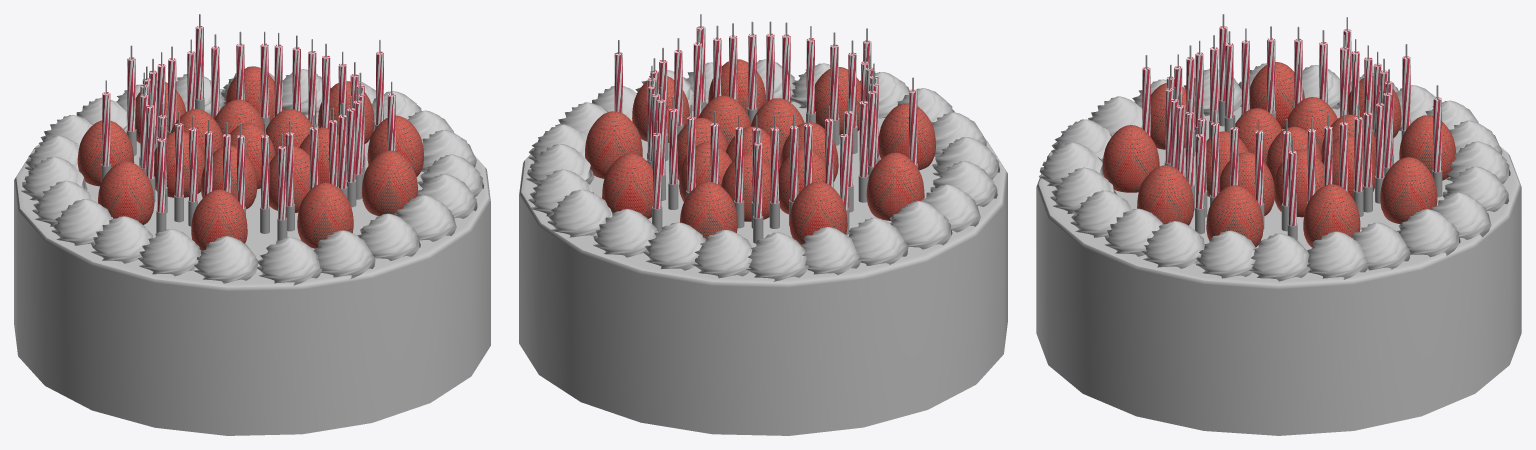
Rendered from Cake_white.fbx.
The picture shows the model from 3 angles, left to right: view 1: azimuth 30°, elevation 25°; view 2: azimuth 150°, elevation 25°; view 3: azimuth 270°, elevation 25°; orthographic projection. The views are drawn at different scales.
Visible parts, largest first — view 1: Candle:pCylinder107, Candle:pCylinder82, Candle:pCylinder88, Candle:pCylinder81, Candle:pCylinder80, Candle:pCylinder78, Candle:pCylinder77, Candle:pCylinder79, Candle:pCylinder71, Candle:pCylinder64, Candle:pCylinder95, Candle:pCylinder83 (+30 smaller); view 2: Candle:pCylinder107, Candle:pCylinder79, Candle:pCylinder88, Candle:pCylinder108, Candle:pCylinder78, Candle:pCylinder82, Candle:pCylinder66, Candle:pCylinder93, Candle:pCylinder105, Candle:pCylinder98, Candle:pCylinder80, Candle:pCylinder74 (+25 smaller); view 3: Candle:pCylinder107, Candle:pCylinder108, Candle:pCylinder80, Candle:pCylinder81, Candle:pCylinder82, Candle:pCylinder78, Candle:pCylinder77, Candle:pCylinder75, Candle:pCylinder86, Candle:pCylinder85, Candle:pCylinder102, Candle:pCylinder66 (+29 smaller).
Boxes of the visible parts, x1,y1,x2,y2 form: Candle:pCylinder107: [14, 66, 490, 435]; Candle:pCylinder82: [154, 131, 204, 197]; Candle:pCylinder88: [269, 146, 320, 212]; Candle:pCylinder81: [200, 146, 257, 209]; Candle:pCylinder80: [266, 109, 313, 154]; Candle:pCylinder78: [214, 99, 264, 135]; Candle:pCylinder77: [222, 123, 275, 188]; Candle:pCylinder79: [170, 109, 222, 153]; Candle:pCylinder71: [174, 111, 183, 222]; Candle:pCylinder64: [260, 123, 269, 233]; Candle:pCylinder95: [347, 96, 356, 207]; Candle:pCylinder83: [156, 126, 166, 233]; Candle:pCylinder107: [519, 59, 1007, 435]; Candle:pCylinder79: [721, 153, 770, 221]; Candle:pCylinder88: [751, 98, 804, 161]; Candle:pCylinder108: [698, 95, 751, 144]; Candle:pCylinder78: [679, 142, 732, 201]; Candle:pCylinder82: [779, 148, 824, 214]; Candle:pCylinder66: [668, 96, 678, 209]; Candle:pCylinder93: [769, 115, 779, 228]; Candle:pCylinder105: [753, 130, 763, 243]; Candle:pCylinder98: [858, 89, 868, 202]; Candle:pCylinder80: [677, 118, 728, 180]; Candle:pCylinder74: [734, 114, 744, 228]; Candle:pCylinder107: [1036, 62, 1521, 435]; Candle:pCylinder108: [1219, 152, 1274, 215]; Candle:pCylinder80: [1274, 149, 1324, 217]; Candle:pCylinder81: [1235, 108, 1282, 163]; Candle:pCylinder82: [1285, 97, 1337, 153]; Candle:pCylinder78: [1321, 135, 1375, 199]; Candle:pCylinder77: [1266, 126, 1321, 183]; Candle:pCylinder75: [1362, 100, 1372, 212]; Candle:pCylinder86: [1195, 122, 1204, 234]; Candle:pCylinder85: [1432, 85, 1442, 197]; Candle:pCylinder102: [1353, 105, 1363, 216]; Candle:pCylinder66: [1375, 91, 1384, 203].
Bounding box in the file's own units: 1.67 × 0.9889 × 1.67.
